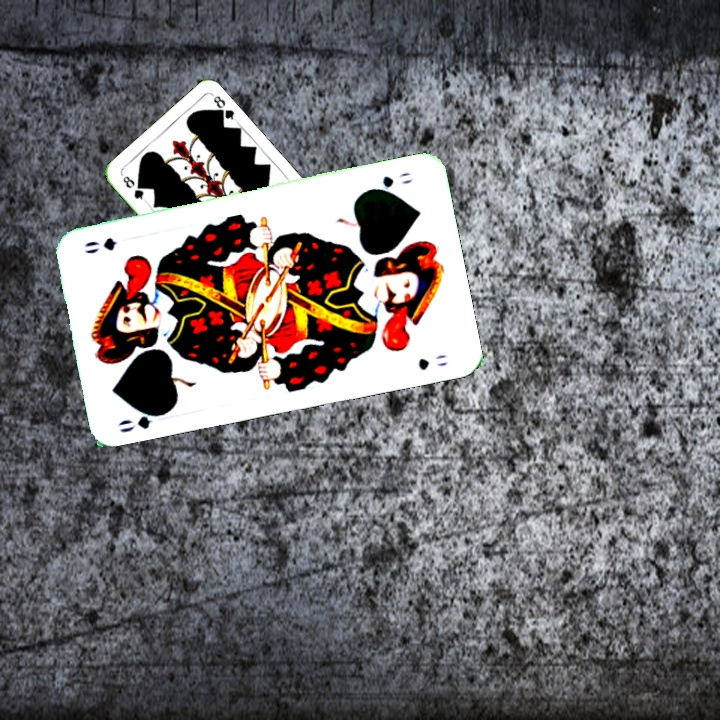G8: (119, 172, 149, 204)
GO: (114, 405, 172, 435), (363, 168, 416, 195)
